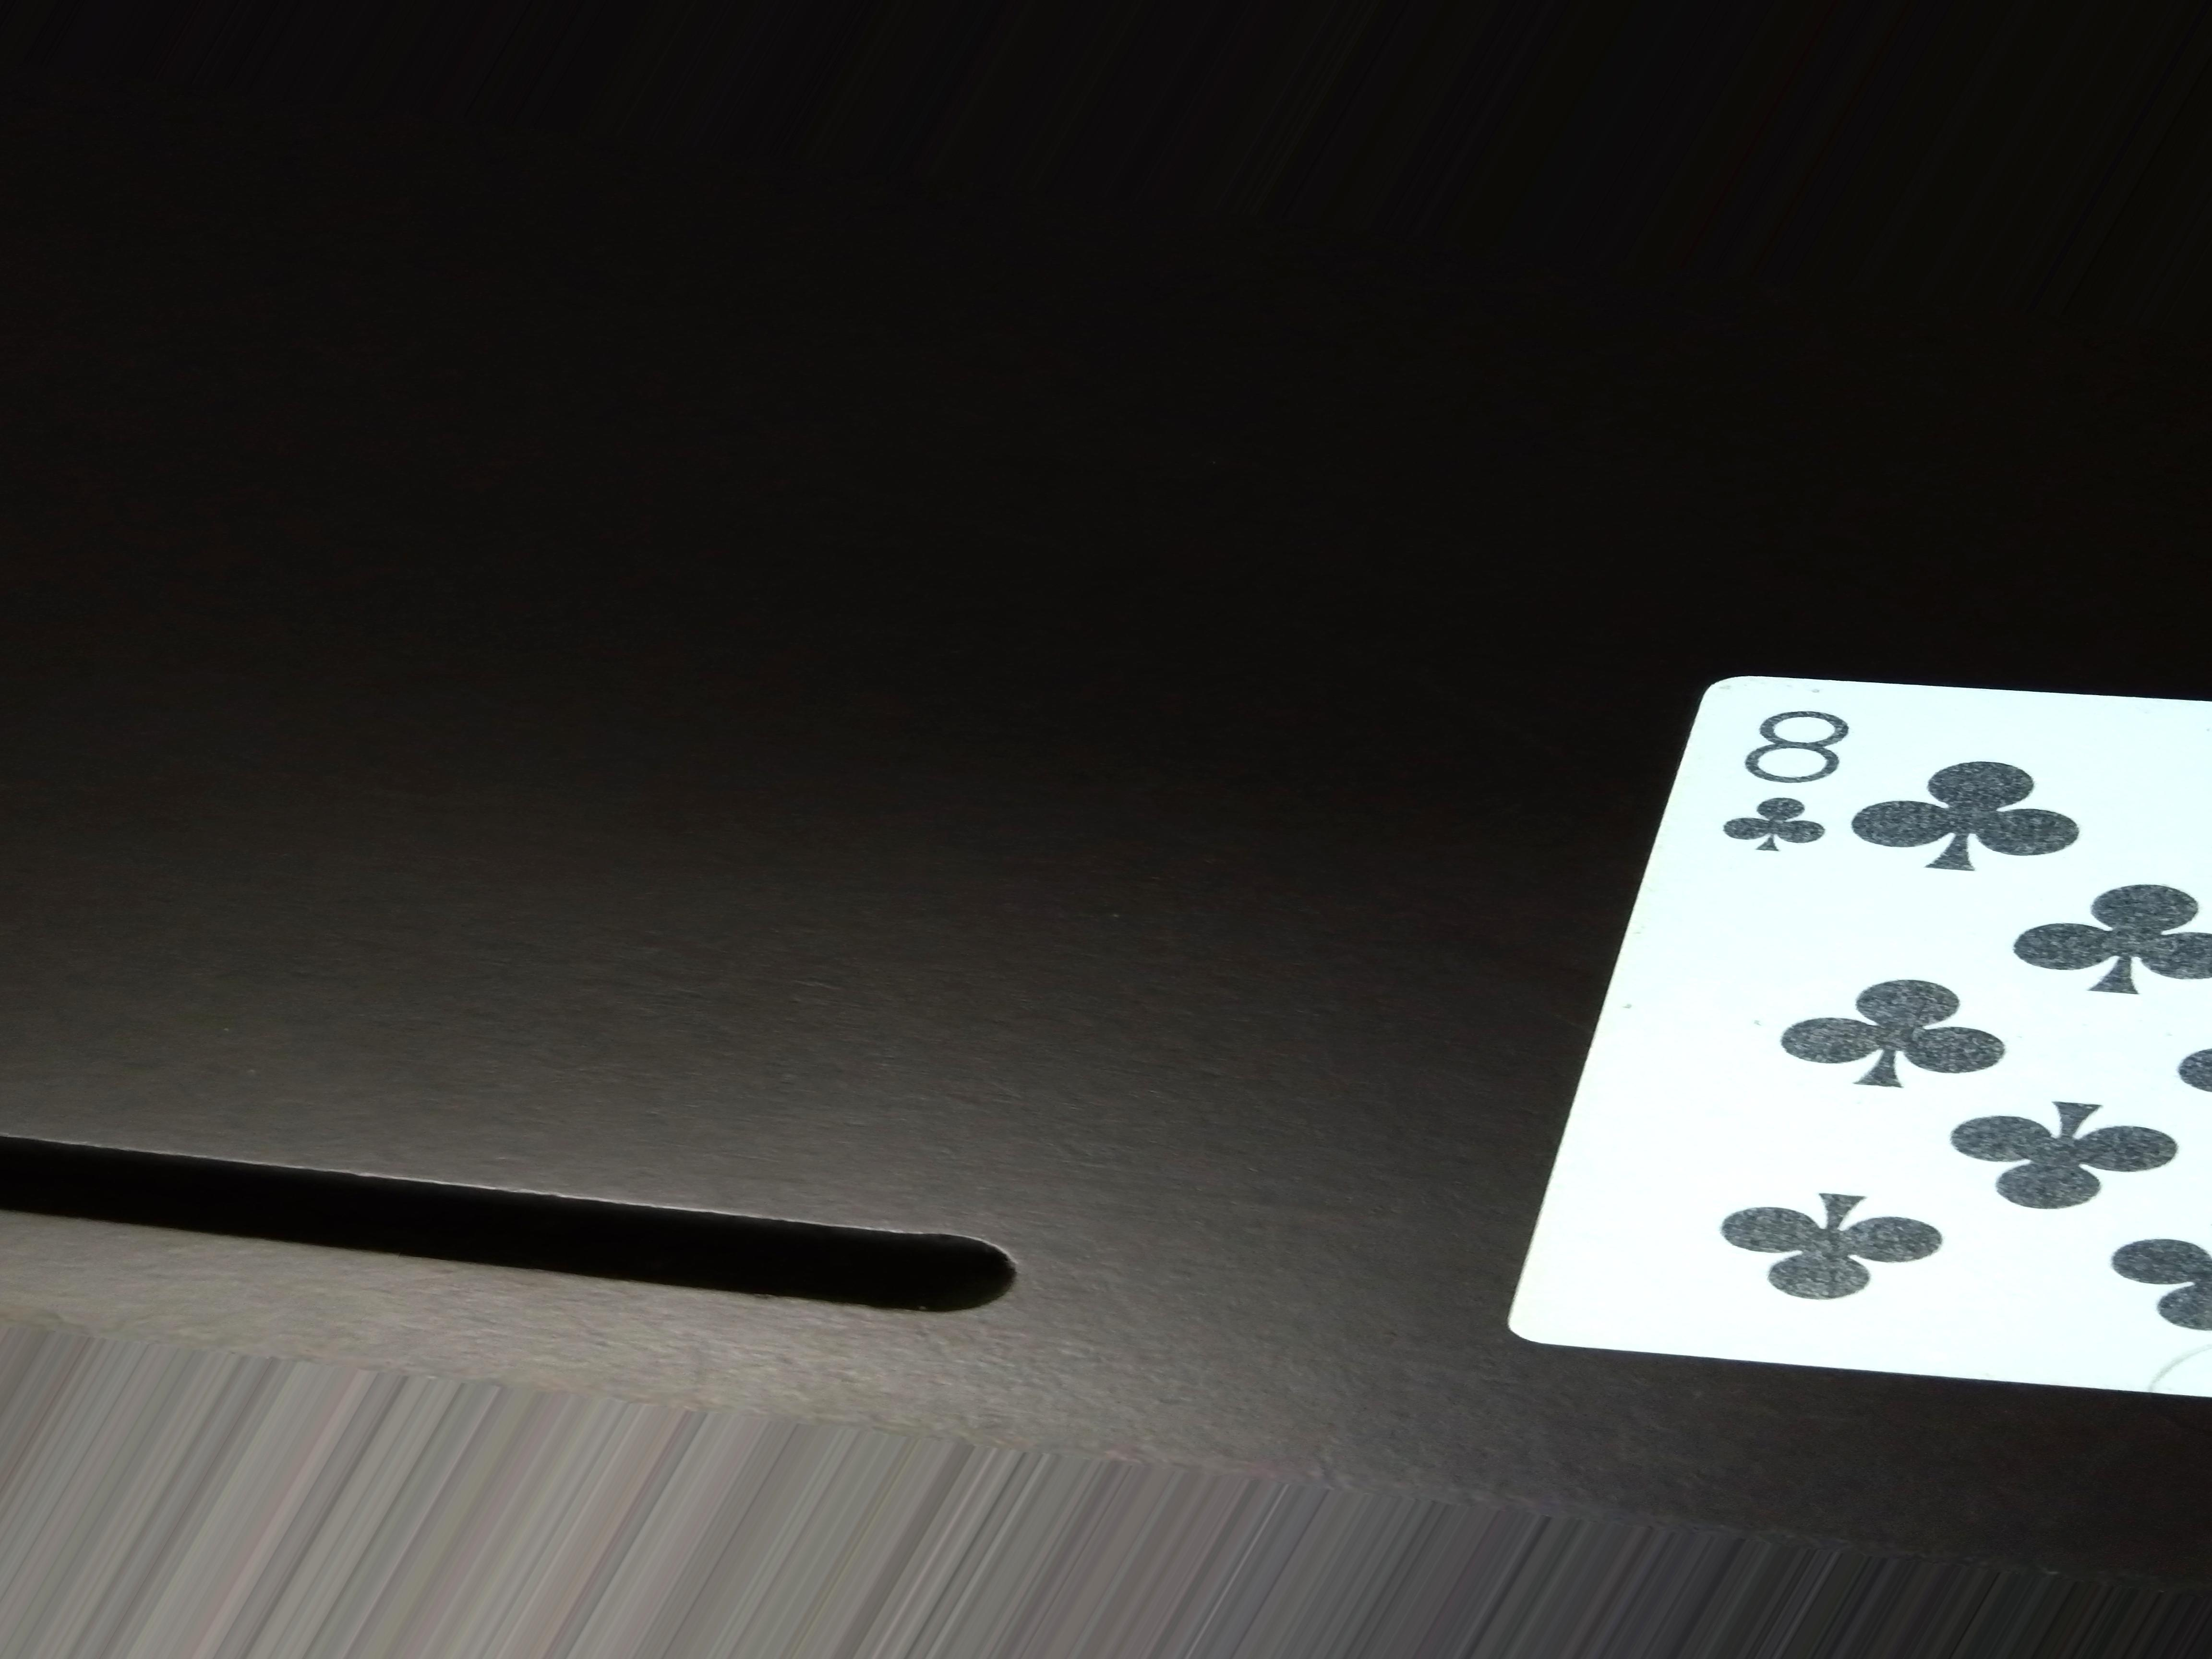8C: (1728, 634, 1872, 887)
